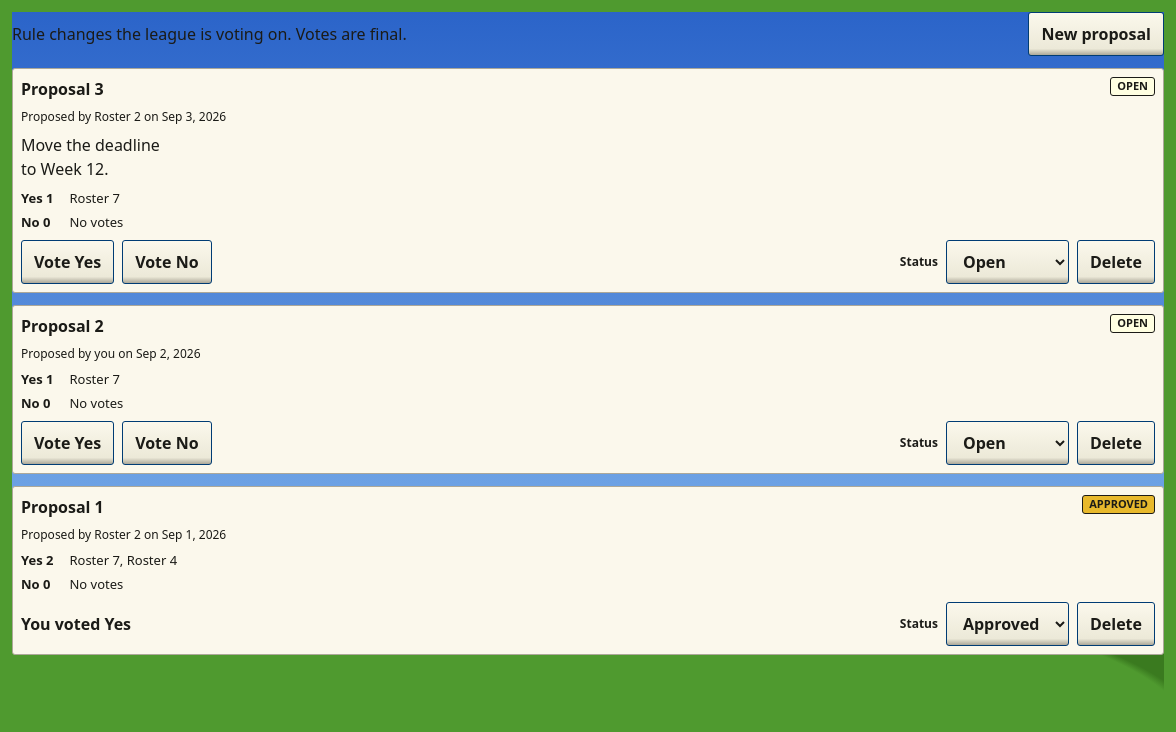
Scenario: Proposals › says so when the admin gate refuses a status change
expect the element "Proposal 3" is shown: met, box x1=12 y1=68 x2=1164 y2=293
Select "Approved" in the 1st dropdown labelled "Status" at (1008, 262), box x1=946 y1=240 x2=1069 y2=284
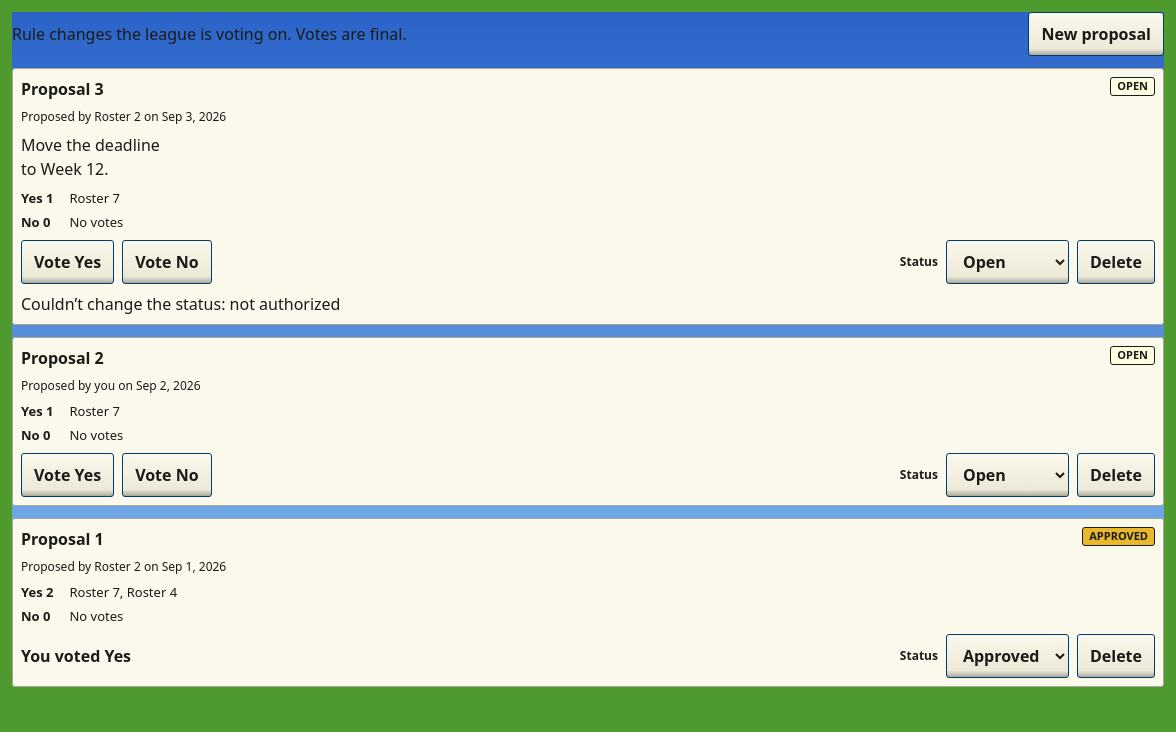
expect the message reads "Couldn’t change the status: not authorized": met, box x1=21 y1=293 x2=340 y2=315
